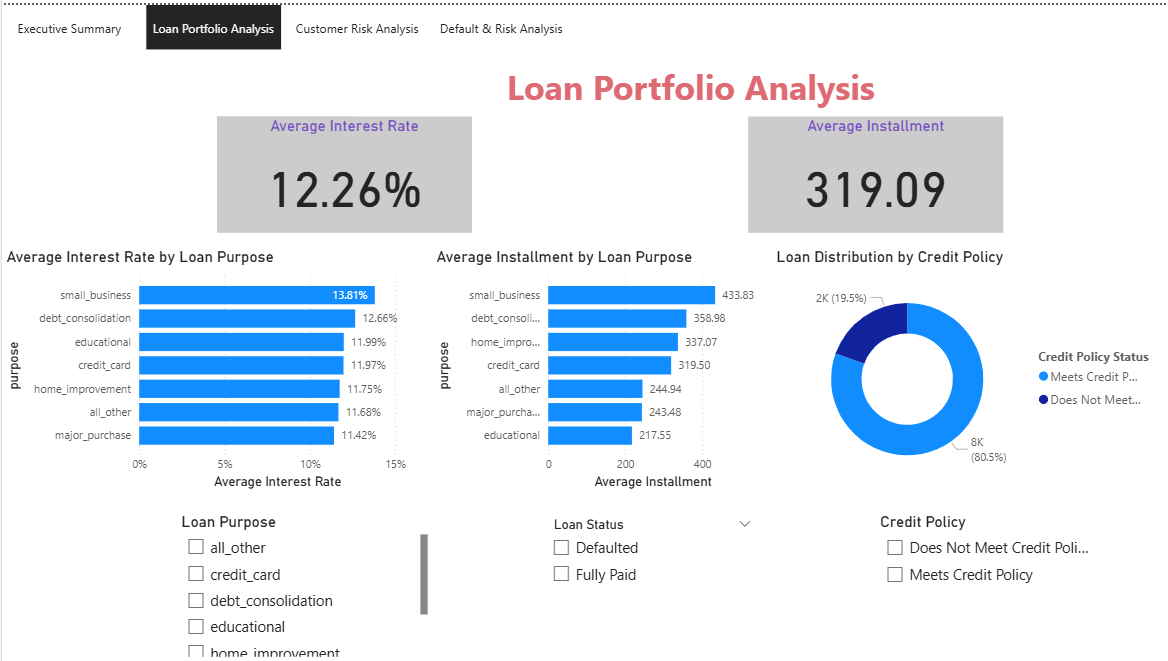

The page's visual inventory and layout, read from the dashboard file:
{"tool":"powerbi","page":{"name":"Loan Portfolio Analysis","canvas":[1280,720],"ordinal":1},"visuals":[{"type":"card","title":"Average Interest Rate","fields":{"Values":["Mtable.Average Interest Rate"]},"box":[236,122.1,279.9,127.6],"z":0},{"type":"card","title":"Average Installment","fields":{"Values":["Mtable.Average Installment"]},"box":[819.2,122.1,279.9,127.6],"z":1000},{"type":"clusteredBarChart","title":"Average Interest Rate by Loan Purpose","fields":{"Category":["loan_data.purpose"],"Y":["Mtable.Average Interest Rate"]},"box":[0,266.2,472,270.3],"z":2000},{"type":"clusteredBarChart","title":"Average Installment by Loan Purpose","fields":{"Y":["Mtable.Average Installment"],"Category":["loan_data.purpose"]},"box":[472,266.2,373.2,270.3],"z":3000},{"type":"donutChart","title":"Loan Distribution by Credit Policy","fields":{"Category":["loan_data.Credit Policy Status"],"Y":["Mtable.Total Loan Applications"]},"box":[845.3,266.2,421.3,270.3],"z":4000},{"type":"slicer","title":"Loan Purpose","fields":{"Values":["loan_data.purpose"]},"box":[192.1,557.1,279.9,163.3],"z":5000},{"type":"slicer","title":"Credit Policy ","fields":{"Values":["loan_data.Credit Policy Status"]},"box":[959.2,557.1,241.5,109.8],"z":6000},{"type":"slicer","fields":{"Values":["loan_data.Loan Status"]},"box":[592.8,557.1,241.5,119.4],"z":7000},{"type":"textbox","box":[387,59,738.3,52.1],"z":8000},{"type":"pageNavigator","box":[0,0,625.7,49.4],"z":8001}]}

Visuals, with their boxes on the page's 1280x720 design canvas (x1, y1, x2, y2). These are canvas units, not pixel positions in the 1168x661 screenshot, which may show the page scaled, cropped or inside an application window:
"Average Interest Rate" card: 236, 122, 516, 250
"Average Installment" card: 819, 122, 1099, 250
"Average Interest Rate by Loan Purpose" clusteredBarChart: 0, 266, 472, 536
"Average Installment by Loan Purpose" clusteredBarChart: 472, 266, 845, 536
"Loan Distribution by Credit Policy" donutChart: 845, 266, 1267, 536
"Loan Purpose" slicer: 192, 557, 472, 720
"Credit Policy " slicer: 959, 557, 1201, 667
slicer - loan_data.Loan Status: 593, 557, 834, 676
textbox: 387, 59, 1125, 111
pageNavigator: 0, 0, 626, 49
